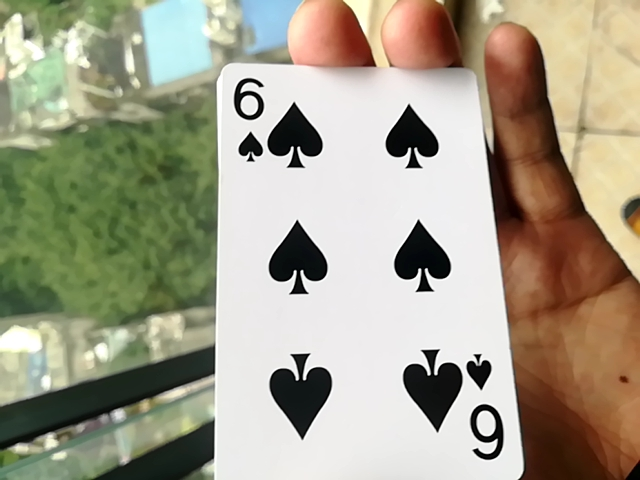ht 6: (198, 46, 520, 476)
